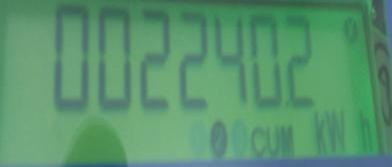.: (312, 107, 376, 156)
0: (280, 95, 291, 107)
1: (50, 3, 90, 114), (94, 5, 134, 113), (248, 9, 283, 104)
3: (137, 8, 175, 113), (280, 14, 320, 108), (175, 9, 210, 110)
5: (214, 12, 254, 104)
